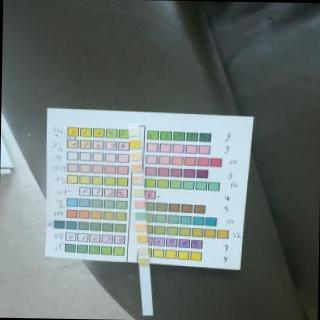mark: (133, 188, 143, 198), (136, 234, 147, 243), (134, 200, 145, 209), (132, 177, 143, 186), (131, 164, 142, 173), (128, 127, 140, 135), (136, 212, 146, 221), (138, 258, 148, 266), (137, 246, 147, 254), (136, 224, 146, 232), (130, 140, 140, 148), (132, 152, 140, 160)
